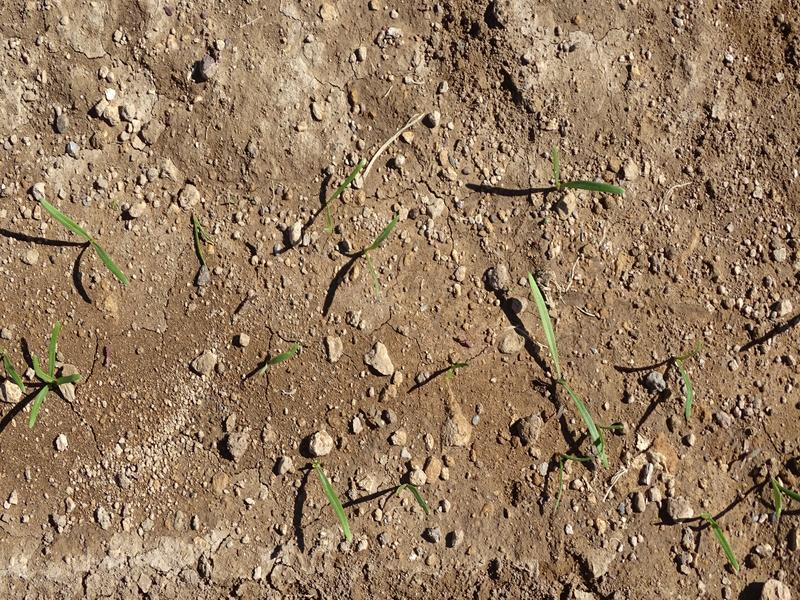Espinaca: (527, 272, 612, 468), (32, 191, 135, 288), (9, 321, 82, 420), (304, 462, 362, 548), (550, 140, 629, 201), (328, 216, 404, 277), (701, 513, 747, 575)
